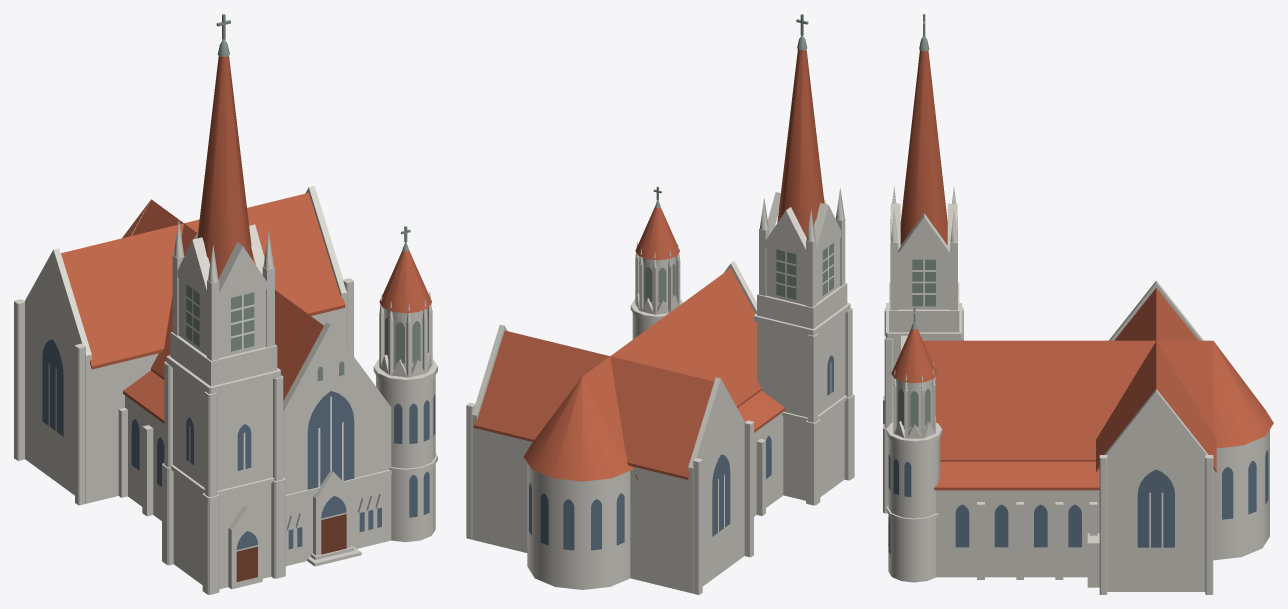
Rendered from jax-basilica-immaculate-conception.glb.
3 views of the same model, side by side, from view 1: azimuth 30°, elevation 25°; view 2: azimuth 150°, elevation 25°; view 3: azimuth 270°, elevation 25° (orthographic). The views are drawn at different scales.
Parts seen in each view (by area): view 1: Basilica of the Immaculate Conception; view 2: Basilica of the Immaculate Conception; view 3: Basilica of the Immaculate Conception.
Part boxes in pixels (x1,y1,x2,y2): Basilica of the Immaculate Conception: (14,14,437,594); Basilica of the Immaculate Conception: (466,14,854,594); Basilica of the Immaculate Conception: (883,14,1273,594).
Bounding box in the file's own units: 28.3 × 54.3 × 39.9.
